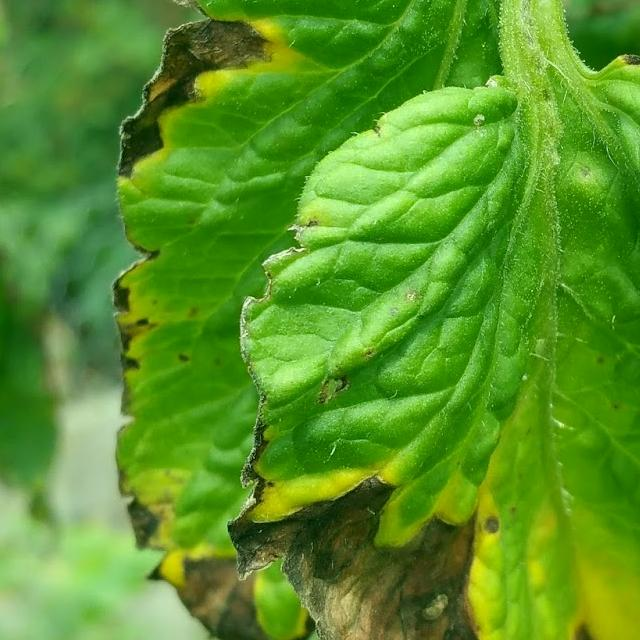Tomato leaf bacterial spot: (67, 0, 553, 640), (229, 13, 640, 640)
